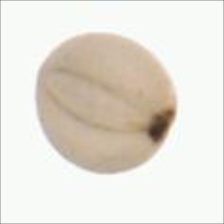L5: (38, 66, 150, 135), (143, 105, 178, 148)
L6: (34, 31, 179, 177)
